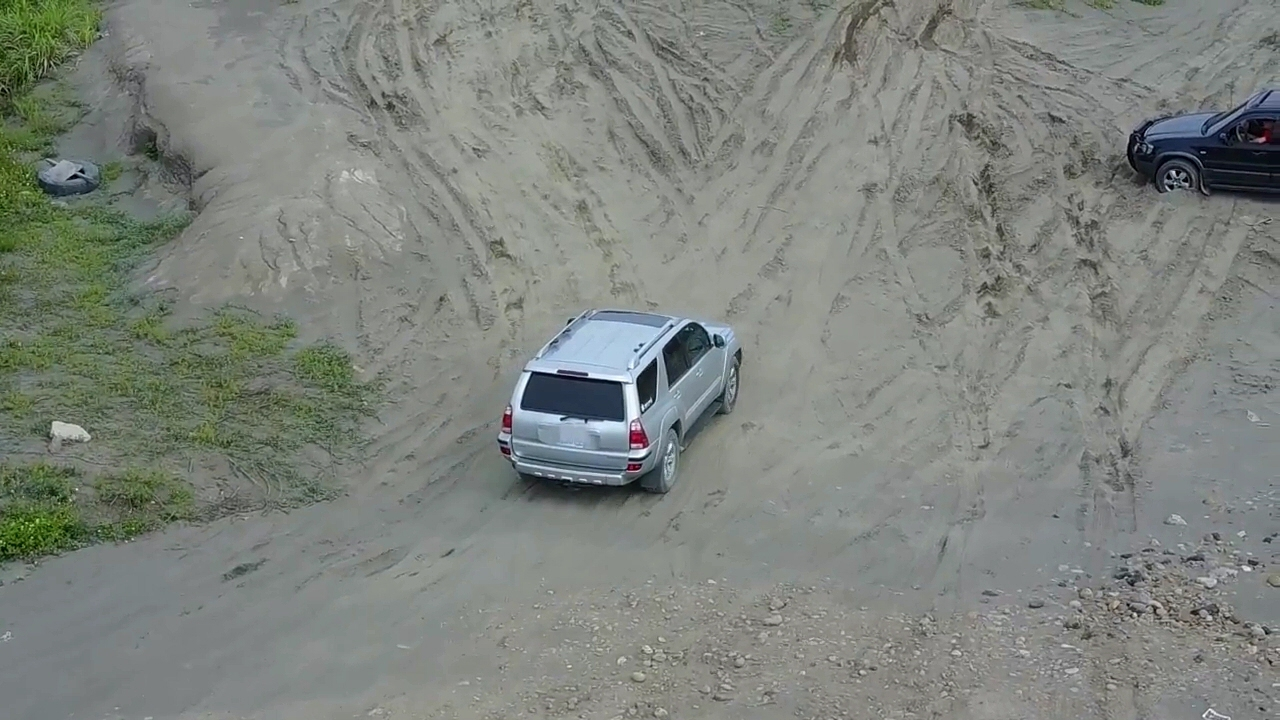araba: (497, 310, 745, 493), (1124, 84, 1280, 193)
